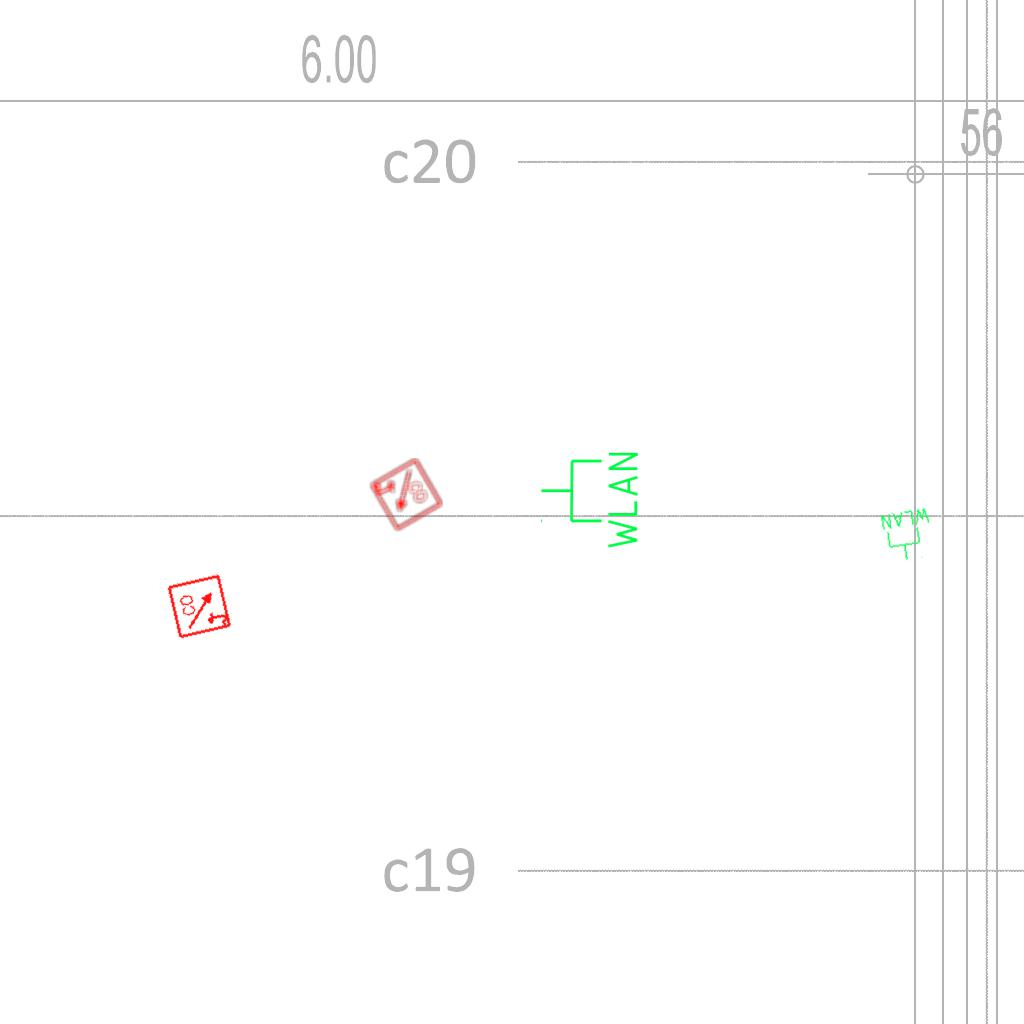ROA_Rauchmelder_optisch_mit_Signalgeber_(Sockelsirene): (367, 456, 445, 534), (166, 572, 234, 640)
WLAN: (538, 448, 642, 553), (878, 505, 938, 565)
